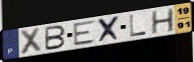B: (44, 25, 67, 52)
E: (72, 19, 97, 47)
H: (151, 7, 176, 36)
L: (128, 13, 148, 38)
X: (97, 14, 122, 44), (19, 26, 43, 56)
